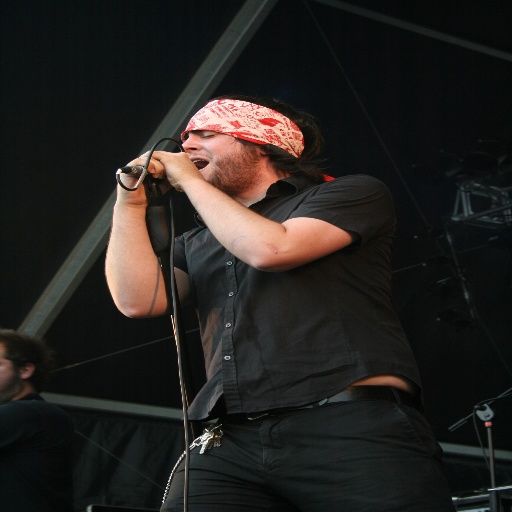hand: (112, 150, 169, 202), (136, 147, 207, 187)
